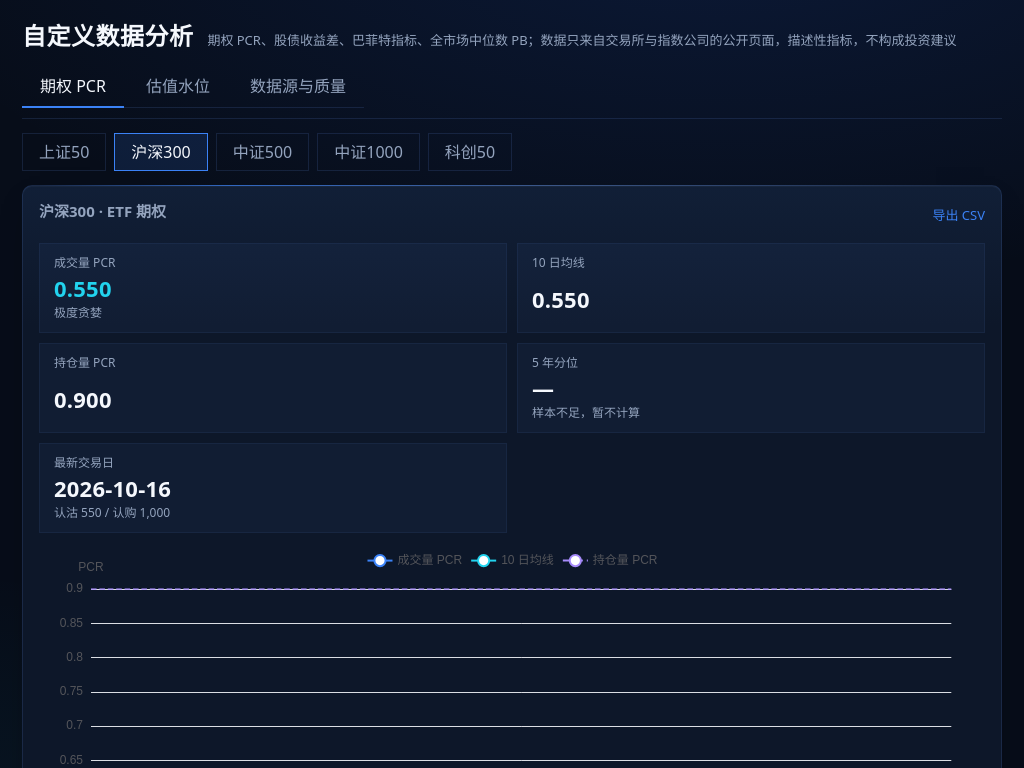
自定义数据分析页 › 科创50 标签请求 star50，只有 ETF 期权一个篮子
Expected: the heading "沪深300 · ETF 期权" is shown, [39, 200, 166, 222]
Click the tab "科创50" at (470, 152), box [428, 133, 512, 171]
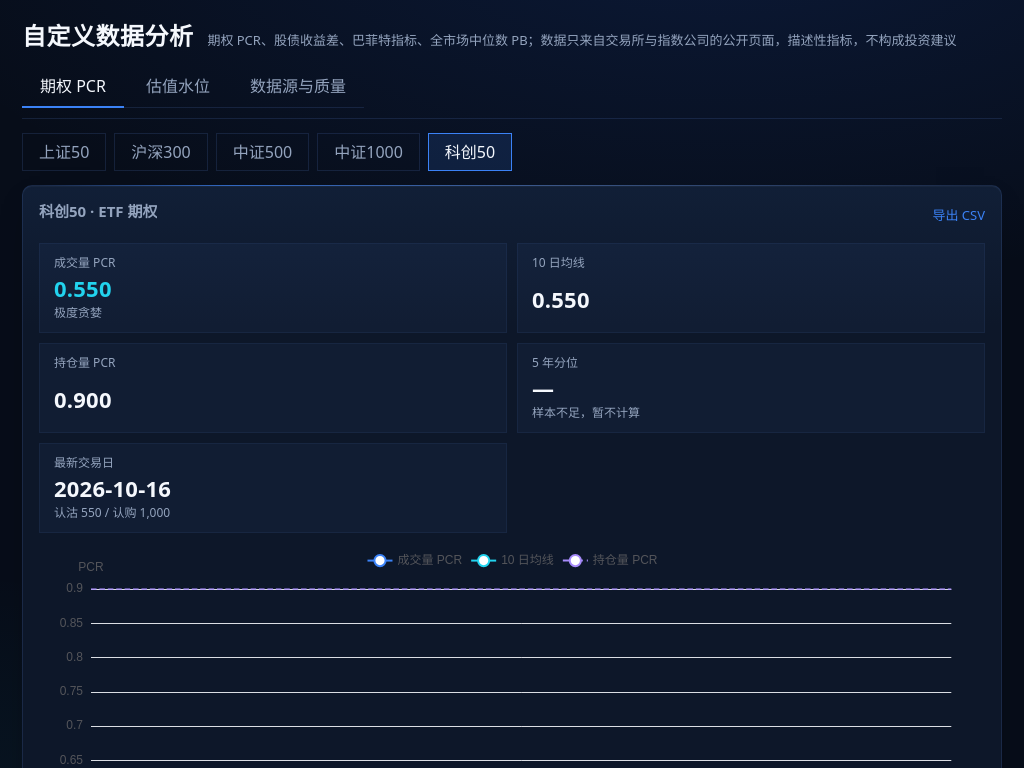
Result: the heading "科创50 · ETF 期权" is shown at [39, 200, 158, 222]
